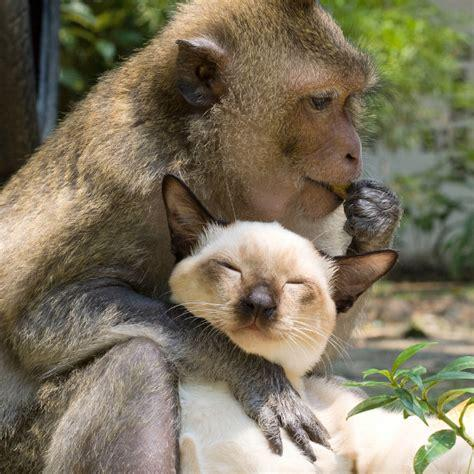cat: (161, 172, 396, 474)
monkey: (1, 2, 374, 474)
